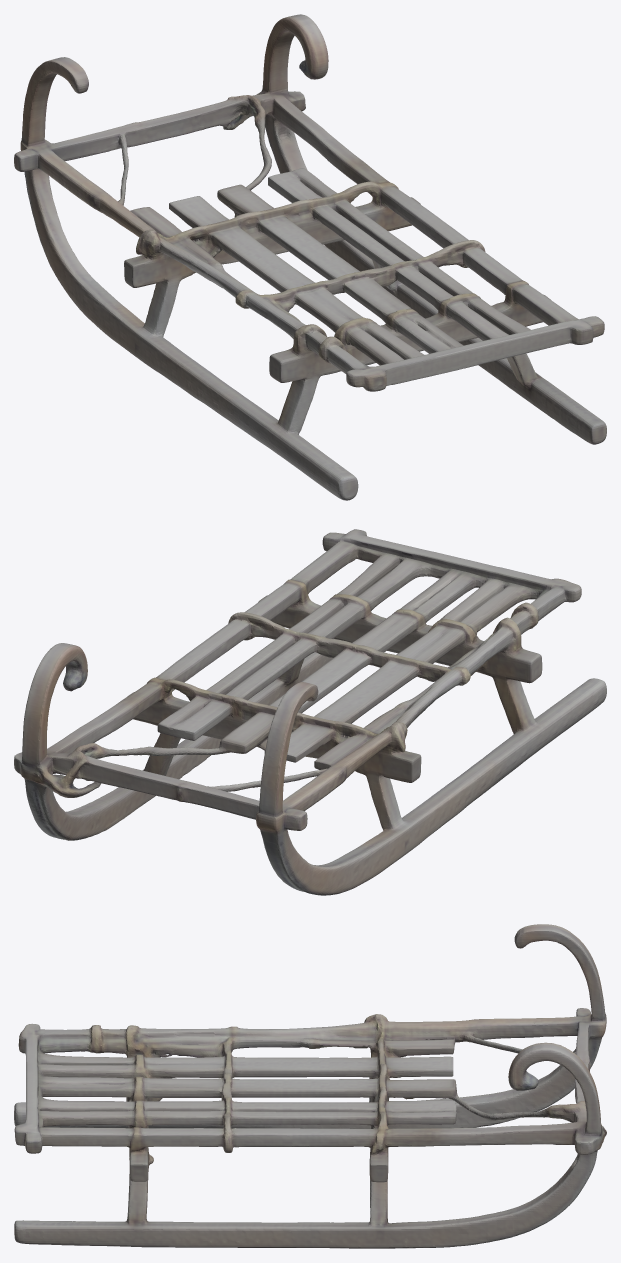
Rendered from model.meshopt.glb.
3 renders of one model, top to bottom at view 1: azimuth 30°, elevation 25°; view 2: azimuth 150°, elevation 25°; view 3: azimuth 270°, elevation 25°, orthographic. The views are drawn at different scales.
Visible parts, largest first — view 1: world; view 2: world; view 3: world.
Part boxes in pixels (box(x1,y1,x2,y2)): world: box(14, 14, 606, 500); world: box(14, 529, 606, 895); world: box(14, 924, 606, 1248).
Bounding box in the file's own units: 0.5083 × 0.3929 × 0.9985.
